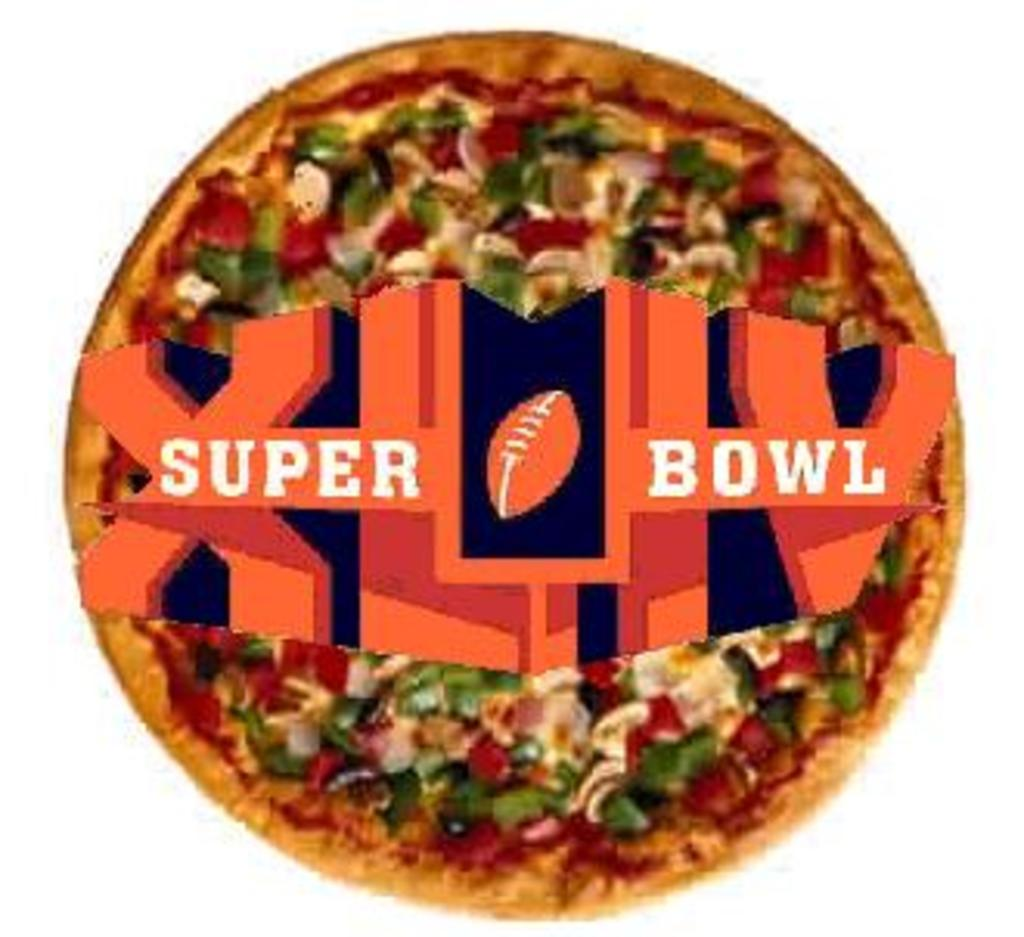Pizza: (58, 40, 943, 915)
